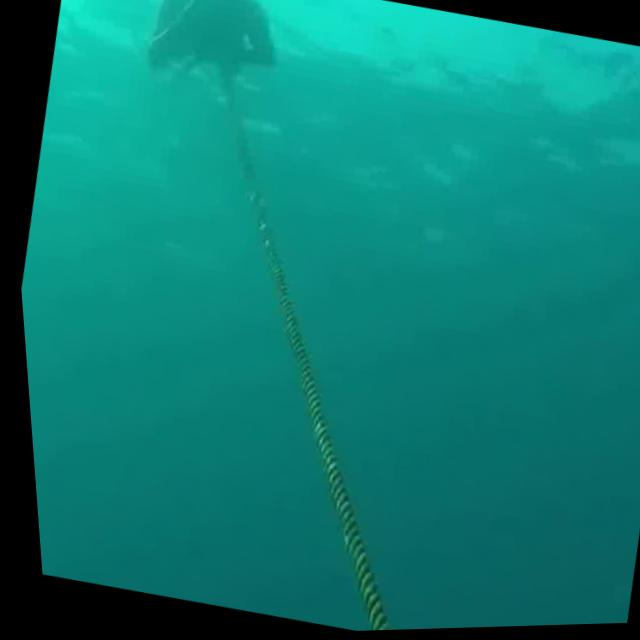human: (131, 0, 299, 120)
